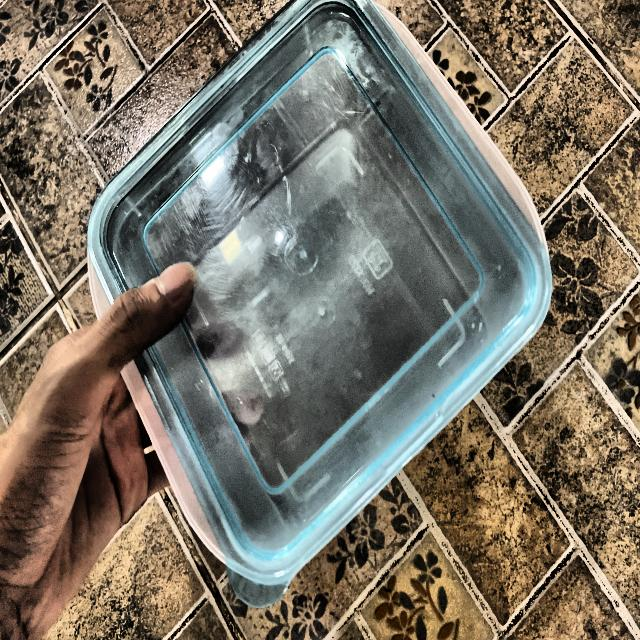plastic container: (87, 26, 554, 554)
